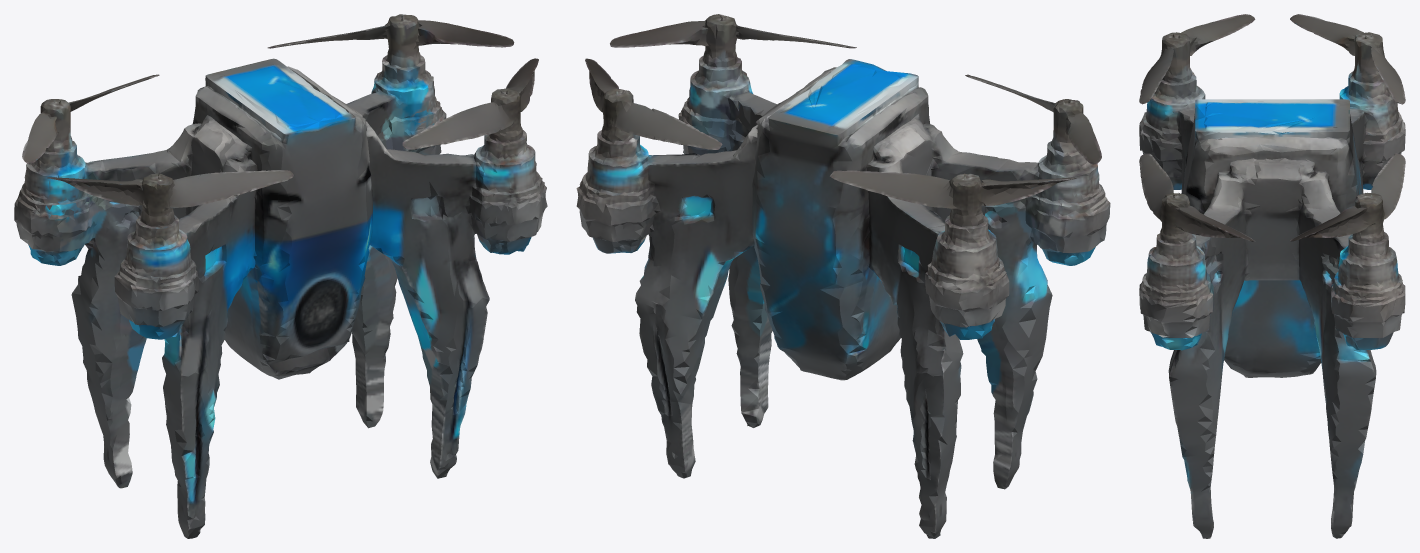
The model's file is combat_drone.glb.
The picture shows the model from 3 angles, left to right: view 1: azimuth 30°, elevation 25°; view 2: azimuth 150°, elevation 25°; view 3: azimuth 270°, elevation 25°; orthographic projection. The views are drawn at different scales.
Visible parts, largest first — view 1: combat_drone; view 2: combat_drone; view 3: combat_drone.
Part boxes in pixels (x1,y1,x2,y2): combat_drone: [14, 14, 547, 538]; combat_drone: [576, 14, 1110, 538]; combat_drone: [1139, 14, 1405, 538].
Bounding box in the file's own units: 1.9 × 1.43 × 0.9452.
1 material, 1 textured.
